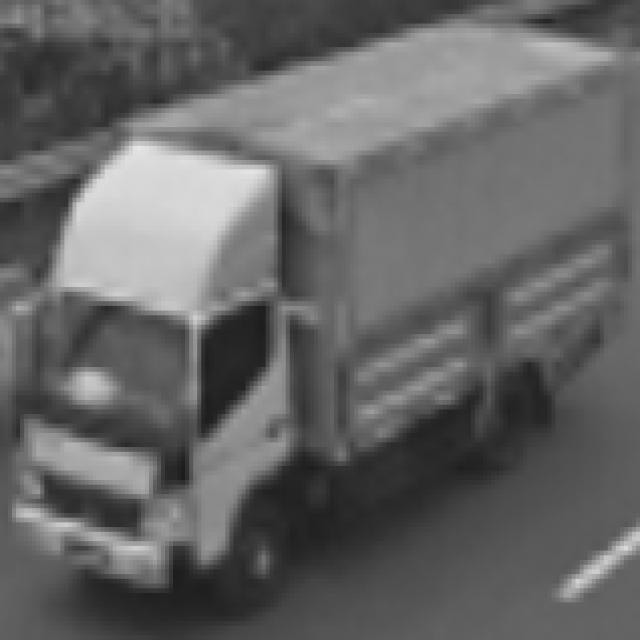truck: (1, 134, 319, 608)
